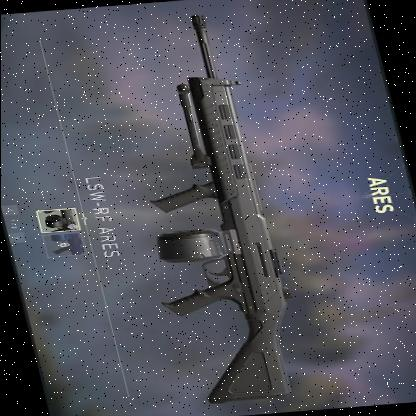rifle: (82, 11, 320, 409)
